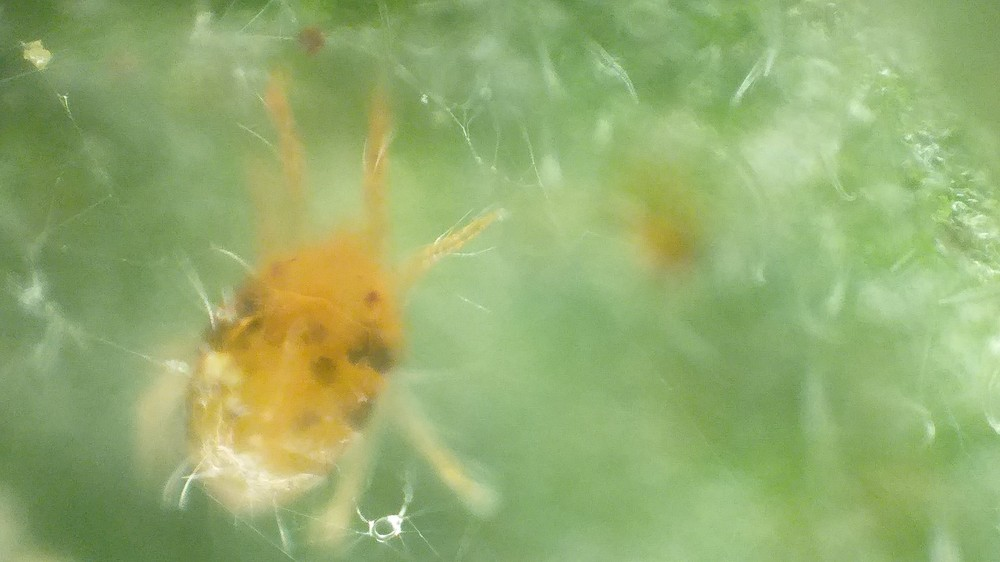Aracnido Rojo: (154, 73, 527, 550)
